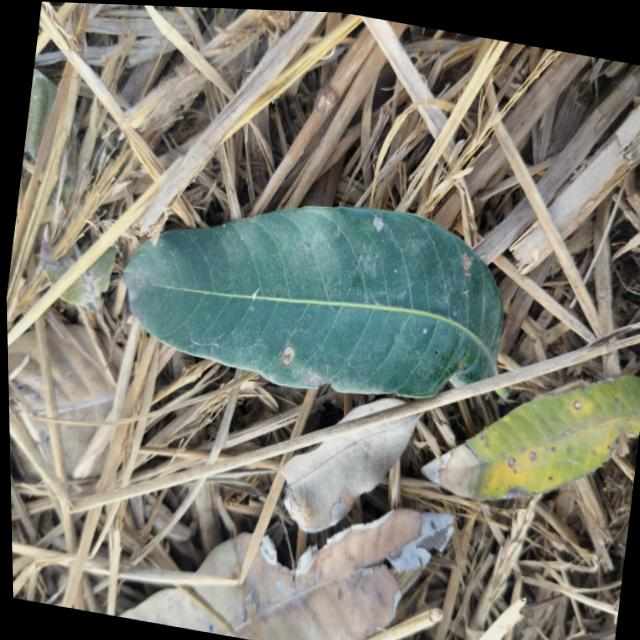Powdery Mildew: (281, 344, 298, 371), (372, 216, 387, 237), (462, 257, 474, 274), (528, 449, 539, 465), (507, 455, 517, 471), (572, 400, 583, 414)
